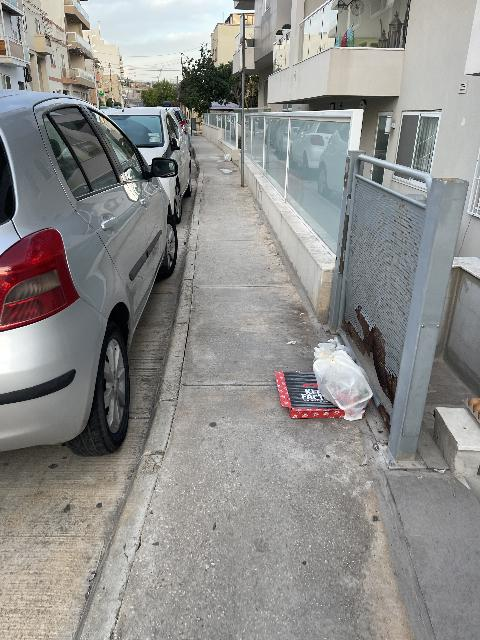Organic -White-: (313, 341, 373, 420), (223, 154, 232, 162)
Other: (275, 370, 345, 419)
